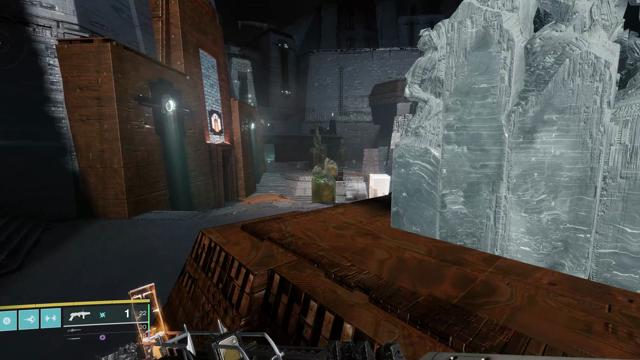worship: (211, 113, 221, 132)
